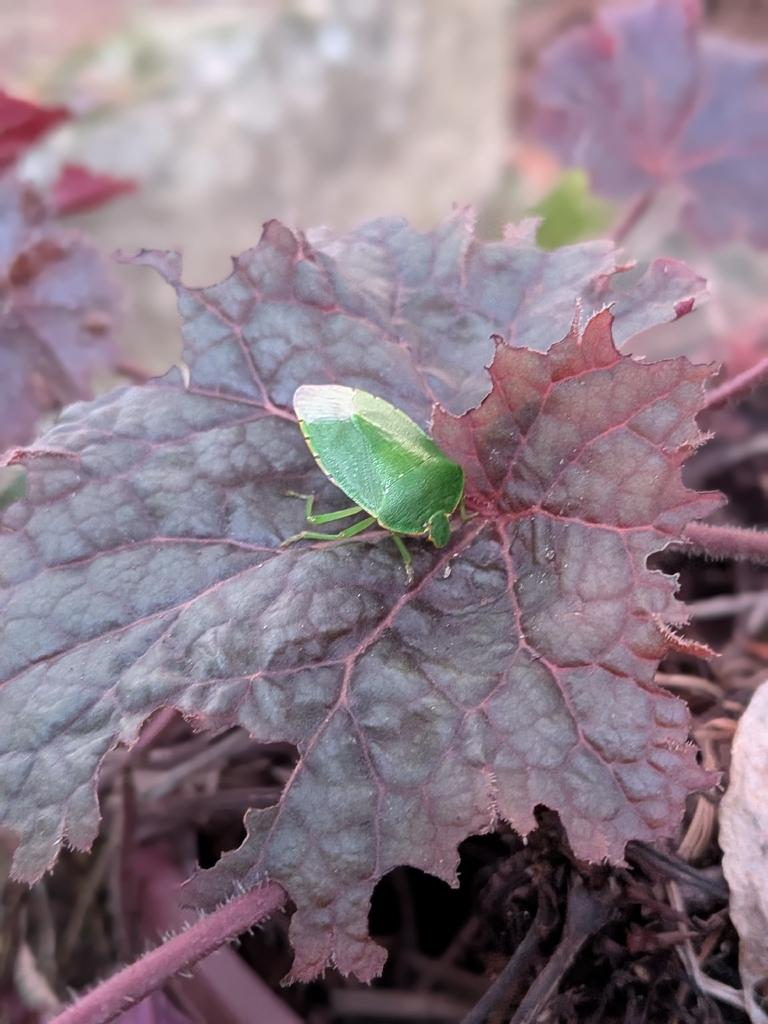stink_bugs: (232, 340, 515, 629)
